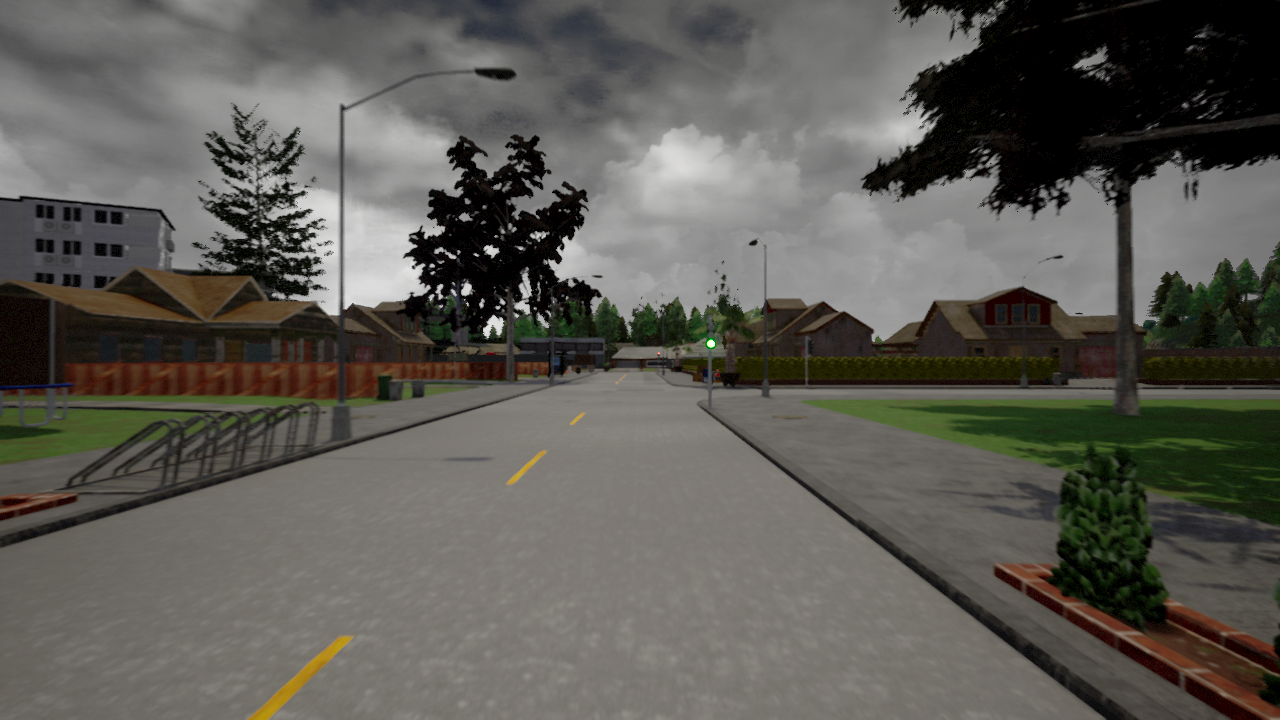green: (705, 322, 717, 349)
